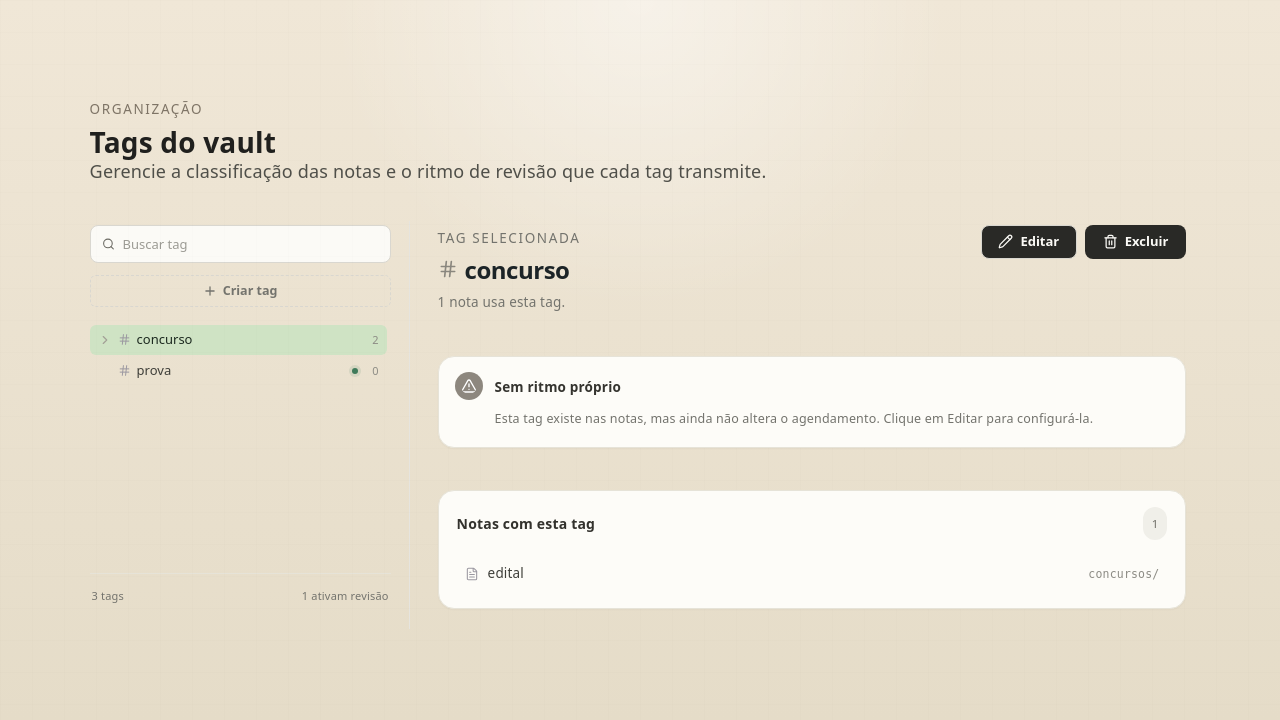
Scenario: TagManagementPage › warns when deleting a tag that has notes and nested tags
Click the button "Excluir" at coordinates (1136, 242), box [1085, 225, 1186, 259]
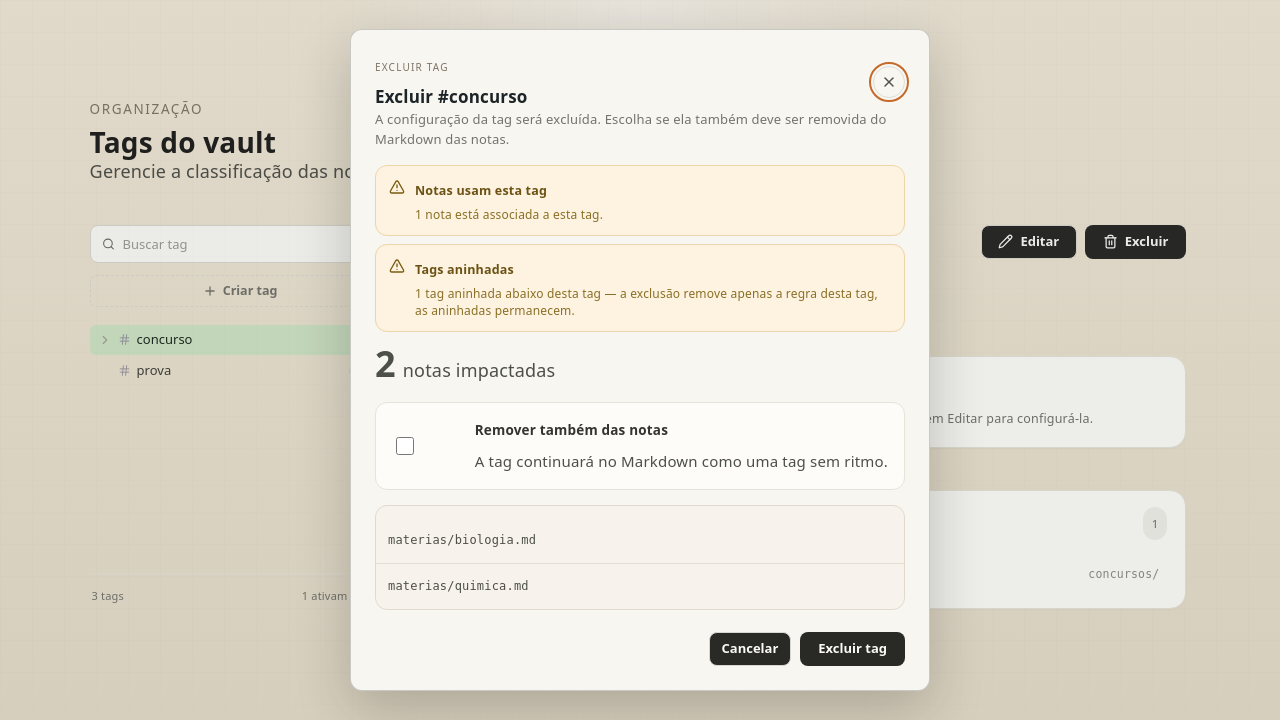
Now the text "Notas usam esta tag" is shown, box [415, 182, 547, 199]
Now the text "1 nota está associada a esta tag." is shown, box [415, 206, 603, 224]
Now the text "Tags aninhadas" is shown, box [415, 261, 514, 278]
